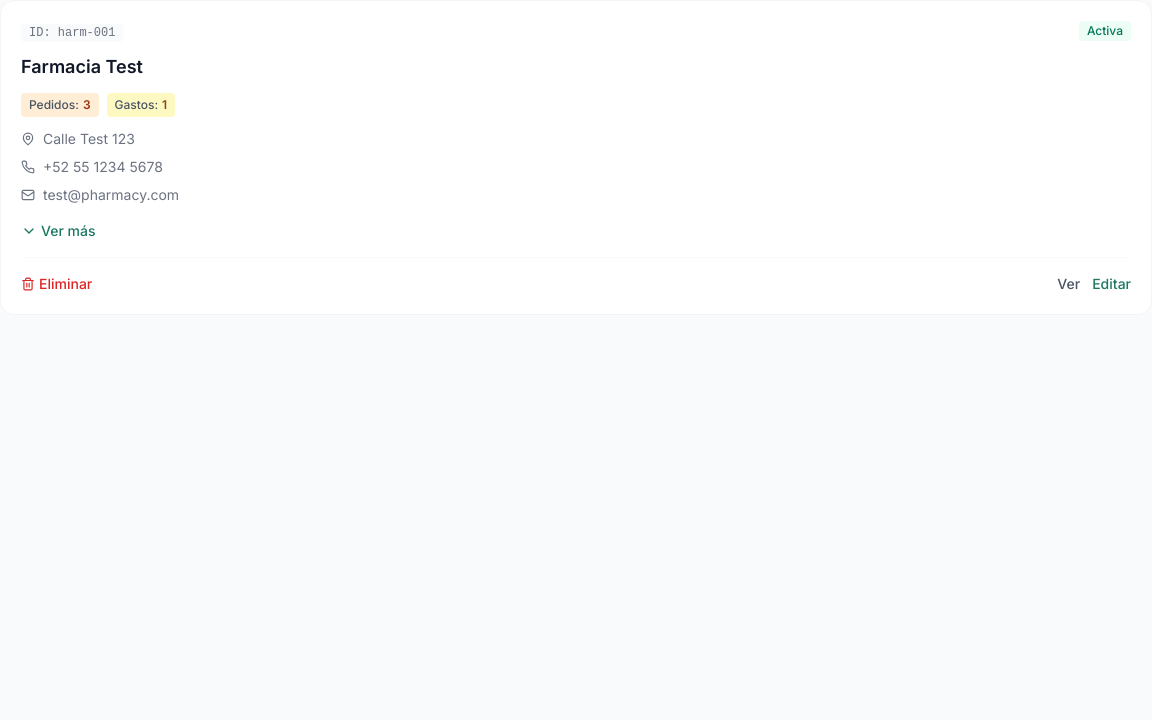
Scenario: PharmacyCard › should close delete modal when clicking cancel
// Open modal
Click the button "Eliminar": [57, 284] box x1=21 y1=274 x2=92 y2=294
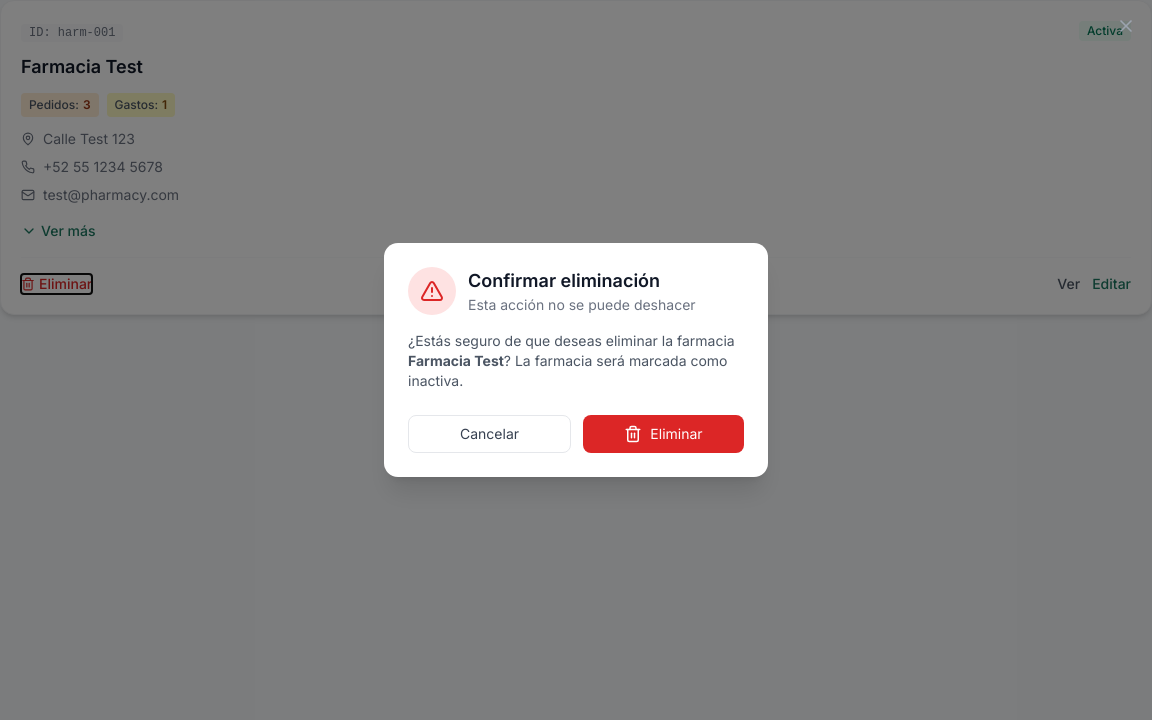
// Close modal
Click the button "Cancelar": [490, 434] box x1=408 y1=415 x2=571 y2=453
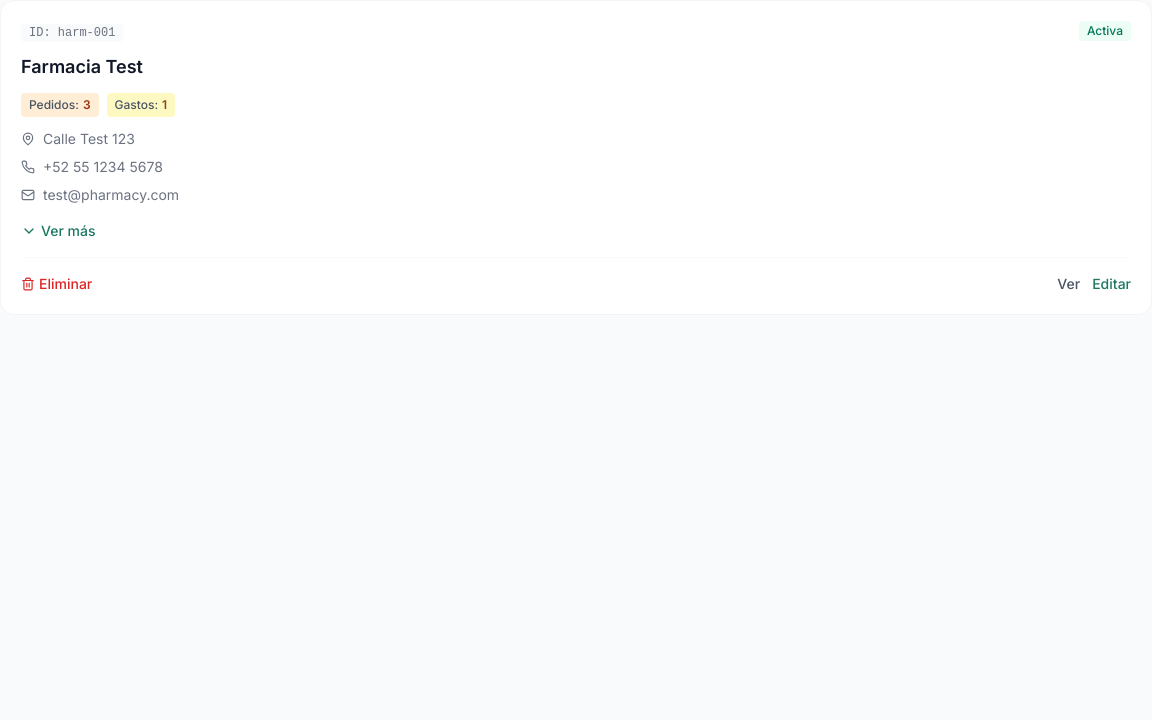
Now the heading "Confirmar eliminación" is gone
